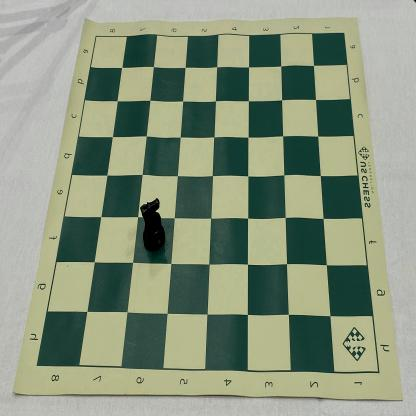black-knight: (140, 198, 165, 254)
